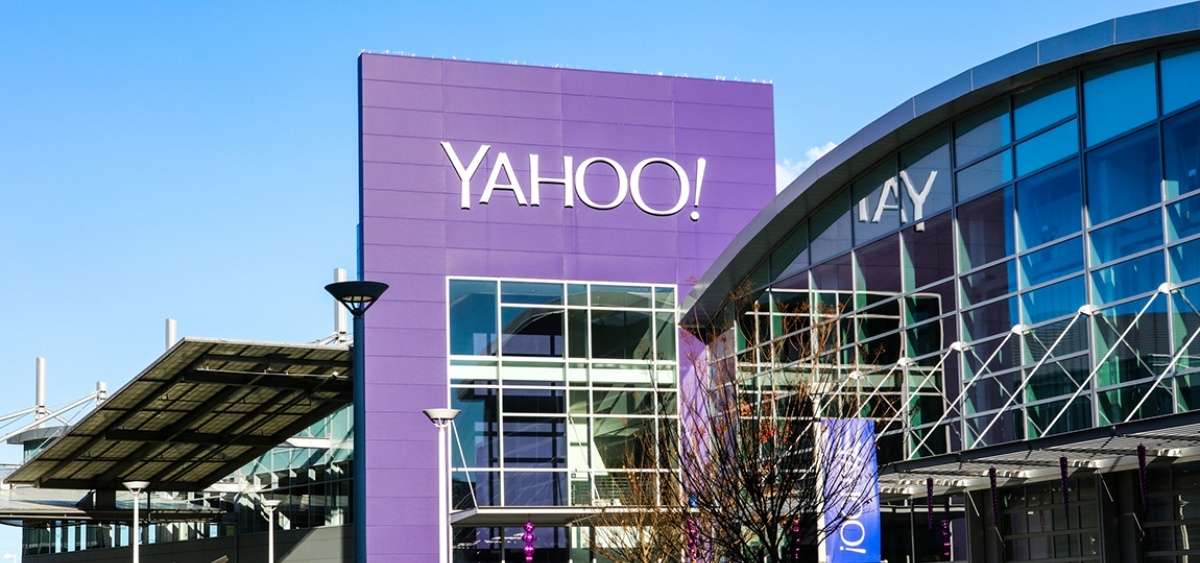text: (849, 439, 864, 557), (835, 439, 848, 557), (449, 141, 464, 222), (465, 141, 480, 222), (481, 141, 496, 222), (497, 141, 512, 222), (513, 141, 528, 222), (529, 141, 544, 222), (545, 141, 560, 222), (561, 141, 576, 222), (577, 141, 592, 222), (593, 141, 608, 222), (609, 141, 624, 222), (625, 141, 640, 222), (641, 141, 656, 222), (657, 141, 672, 222), (673, 141, 688, 222), (689, 141, 704, 222), (897, 169, 912, 232), (913, 169, 928, 232), (440, 141, 448, 222), (929, 169, 939, 232), (887, 169, 896, 232), (865, 439, 868, 557), (705, 141, 708, 222)
